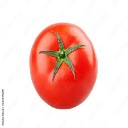tomato: (30, 23, 99, 110)
